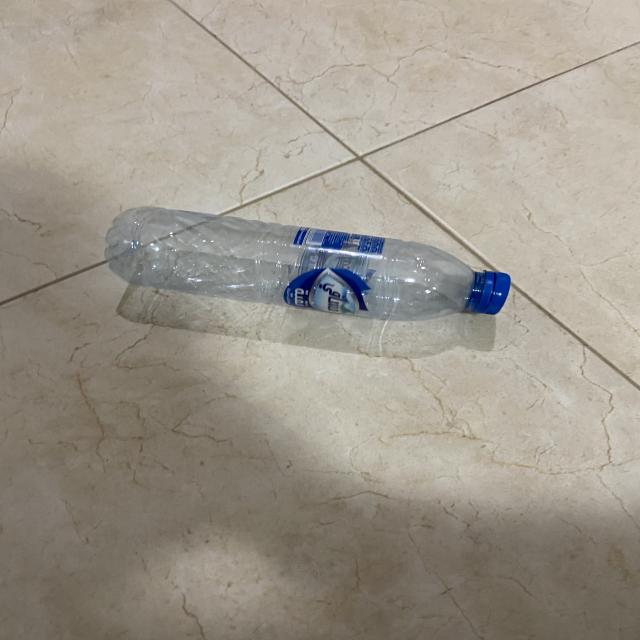bottle: (88, 199, 524, 340)
